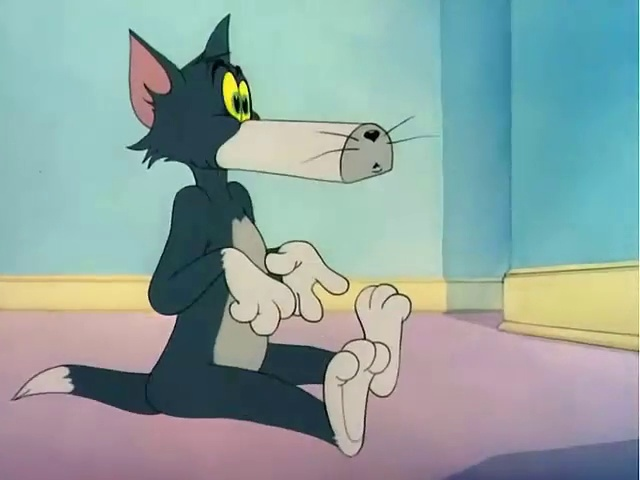tom: (23, 24, 416, 459)
